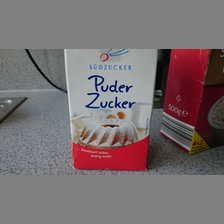tomato_sauce: (64, 49, 158, 172)
